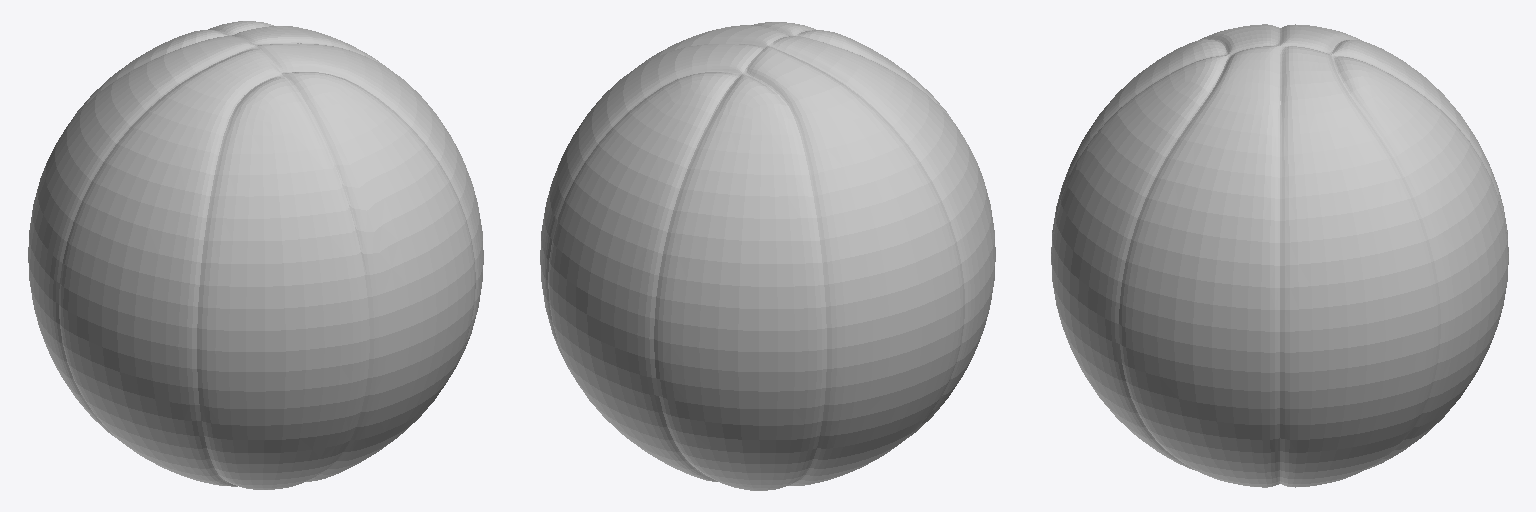
Rendered from Basketball.obj.
3 renders of one model, left to right at view 1: azimuth 30°, elevation 25°; view 2: azimuth 150°, elevation 25°; view 3: azimuth 270°, elevation 25°, orthographic.
Visible parts, largest first — view 1: Mesh1 Group1 Component_3__26_1 Model; view 2: Mesh1 Group1 Component_3__26_1 Model; view 3: Mesh1 Group1 Component_3__26_1 Model.
Part boxes in pixels (left/top/right/bottom): Mesh1 Group1 Component_3__26_1 Model: left=28, top=21, right=483, bottom=489; Mesh1 Group1 Component_3__26_1 Model: left=540, top=22, right=995, bottom=490; Mesh1 Group1 Component_3__26_1 Model: left=1051, top=24, right=1508, bottom=487.
Size of the model in its own units: 0.6557 by 0.6691 by 0.6558.